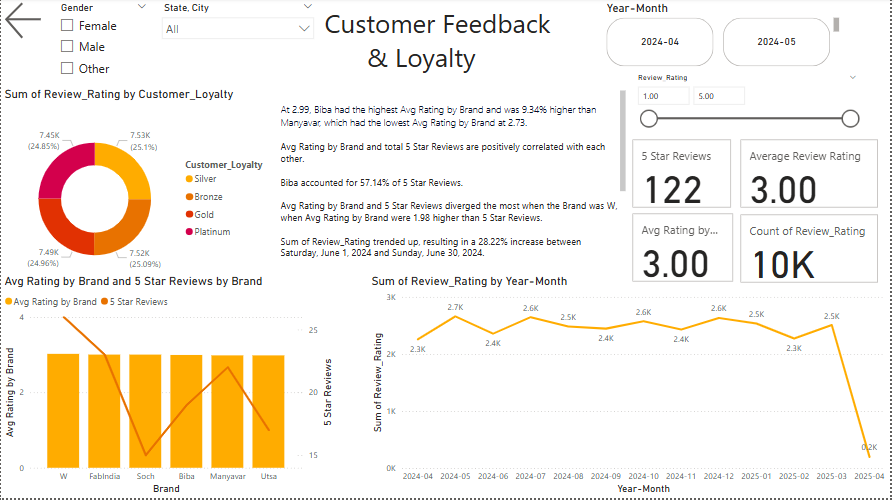

The dashboard page shown, as its layout file describes it:
{"tool":"powerbi","page":{"name":"Customer Feedback &Loyalty","canvas":[1280,720],"ordinal":6},"visuals":[{"type":"slicer","fields":{"Values":["Customers.Gender"]},"box":[73.4,0,148.3,128.2],"z":0},{"type":"actionButton","box":[0,0,73.4,64.8],"z":1000},{"type":"slicer","fields":{"Values":["Customers.State Hierarchy.State","Customers.State Hierarchy.City"]},"box":[221.8,0,239,103.7],"z":2000},{"type":"textbox","box":[460.8,5.8,339.8,112.3],"z":3000},{"type":"advancedSlicerVisual","fields":{"Values":["DateTable.Year Hierarchy.Year-Month"]},"box":[866.9,4.3,345.6,99.4],"z":4000},{"type":"donutChart","fields":{"Y":["Sum(Orders.Review_Rating)"],"Category":["Orders.Customer_Loyalty"]},"box":[0,128.2,397.4,303.8],"z":5000},{"type":"lineStackedColumnComboChart","fields":{"Y":["Orders.Avg Rating by Brand"],"Y2":["Orders.5 Star Reviews"],"Category":["Products.Brand"]},"box":[0,397.4,482.4,322.6],"z":6000},{"type":"lineChart","fields":{"Category":["DateTable.Year Hierarchy.Year","DateTable.Year Hierarchy.Year-Q","DateTable.Year Hierarchy.Year-Month","DateTable.Year Hierarchy.Date"],"Y":["Sum(Orders.Review_Rating)"]},"box":[528.5,397.4,751.7,322.6],"z":7000},{"type":"slicer","fields":{"Values":["Orders.Review_Rating"]},"box":[904.3,103.7,339.8,121],"z":8000},{"type":"textbox","box":[397.4,128.2,506.9,269.3],"z":9000},{"type":"cardVisual","fields":{"Data":["Orders.5 Star Reviews"]},"box":[904.3,198.7,152.6,108],"z":10000},{"type":"cardVisual","fields":{"Data":["CountNonNull(Orders.Review_Rating)"]},"box":[1059.8,306.7,208.8,108],"z":11000},{"type":"cardVisual","fields":{"Data":["Orders.Average Review Rating"]},"box":[1059.8,198.7,208.8,108],"z":12000},{"type":"cardVisual","fields":{"Data":["Orders.Avg Rating by Brand"]},"box":[904.3,305.3,155.5,108],"z":13000}]}

Visuals, with their boxes in screenshot pixels (x1, y1, x2, y2), scaled from the page's 1280x720 canvas onto the 894x503 screenshot:
slicer - Customers.Gender: (x1=51, y1=0, x2=155, y2=90)
actionButton: (x1=0, y1=0, x2=51, y2=45)
slicer - Customers.State Hierarchy.State x Customers.State Hierarchy.City: (x1=155, y1=0, x2=322, y2=72)
textbox: (x1=322, y1=4, x2=559, y2=83)
advancedSlicerVisual - DateTable.Year Hierarchy.Year-Month: (x1=605, y1=3, x2=847, y2=72)
donutChart - Sum(Orders.Review_Rating) x Orders.Customer_Loyalty: (x1=0, y1=90, x2=278, y2=302)
lineStackedColumnComboChart - Orders.Avg Rating by Brand x Orders.5 Star Reviews: (x1=0, y1=278, x2=337, y2=502)
lineChart - DateTable.Year Hierarchy.Year x DateTable.Year Hierarchy.Year-Q: (x1=369, y1=278, x2=893, y2=502)
slicer - Orders.Review_Rating: (x1=632, y1=72, x2=869, y2=157)
textbox: (x1=278, y1=90, x2=632, y2=278)
cardVisual - Orders.5 Star Reviews: (x1=632, y1=139, x2=738, y2=214)
cardVisual - CountNonNull(Orders.Review_Rating): (x1=740, y1=214, x2=886, y2=290)
cardVisual - Orders.Average Review Rating: (x1=740, y1=139, x2=886, y2=214)
cardVisual - Orders.Avg Rating by Brand: (x1=632, y1=213, x2=740, y2=289)
